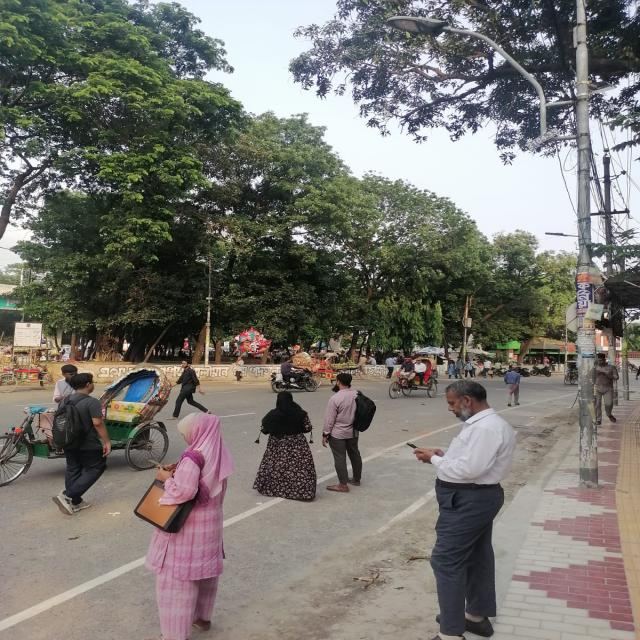person: (170, 358, 213, 420)
